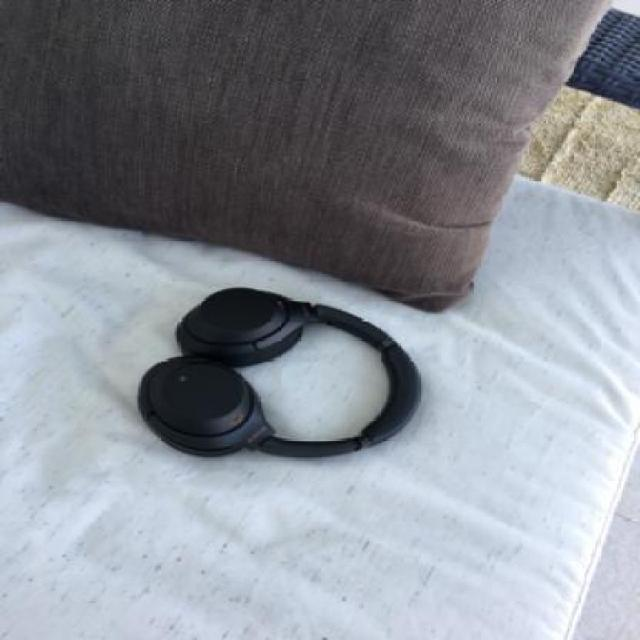earphone: (124, 252, 524, 525)
